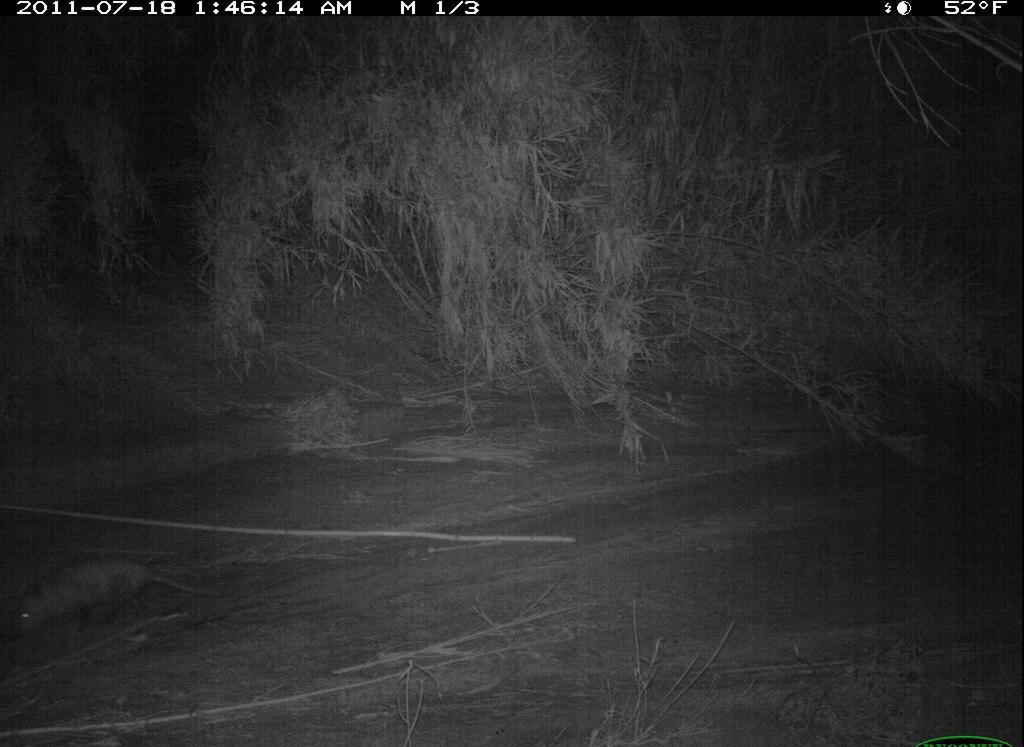opossum: (4, 546, 232, 658)
